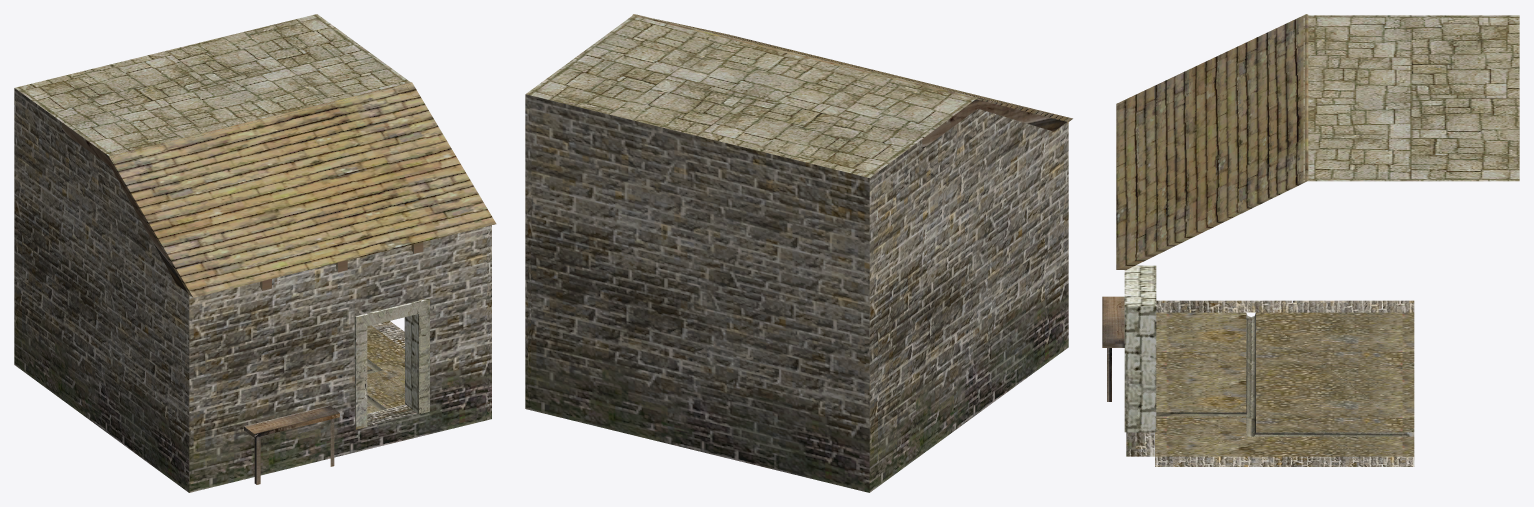
File: building_kitchen.glb
3 views of the same model, side by side, from view 1: azimuth 30°, elevation 25°; view 2: azimuth 150°, elevation 25°; view 3: azimuth 270°, elevation 25° (orthographic). The views are drawn at different scales.
Parts seen in each view (by area): view 1: building_kitchen; view 2: building_kitchen; view 3: building_kitchen.
Boxes of the visible parts, x1,y1,x2,y2 form: building_kitchen: [14, 14, 496, 492]; building_kitchen: [525, 14, 1072, 492]; building_kitchen: [1102, 14, 1519, 466].
Bounding box in the file's own units: 8.2 × 7.19 × 8.7.
7 materials, 7 textured.
